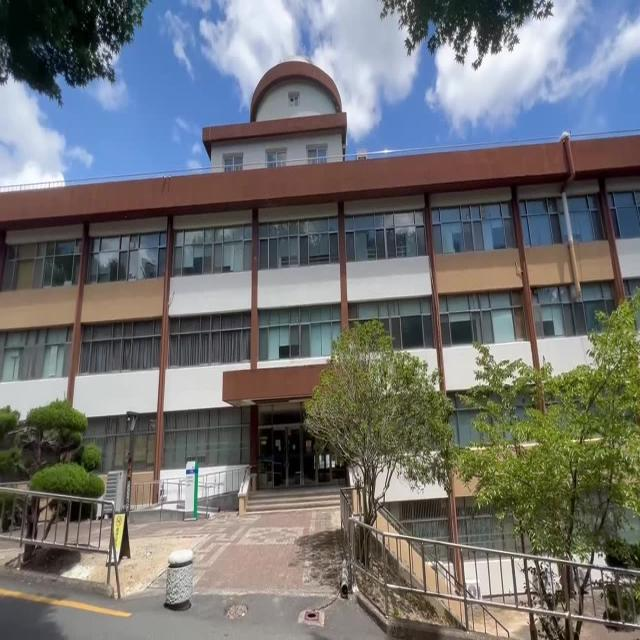building: (4, 80, 636, 383)
